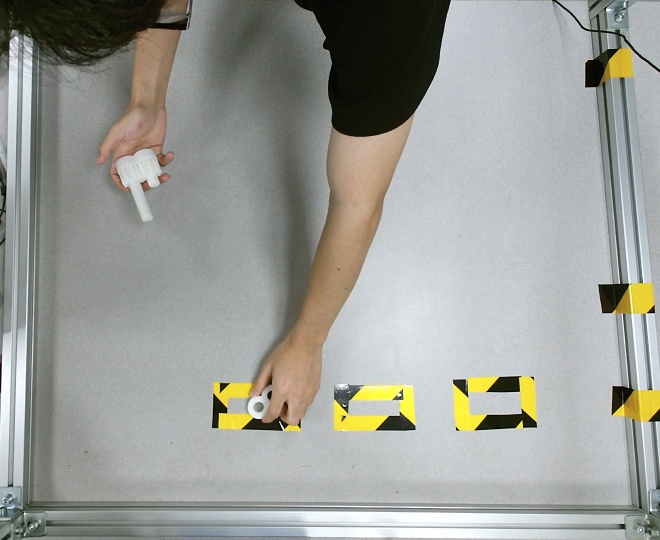stage_3: (116, 150, 160, 222)
